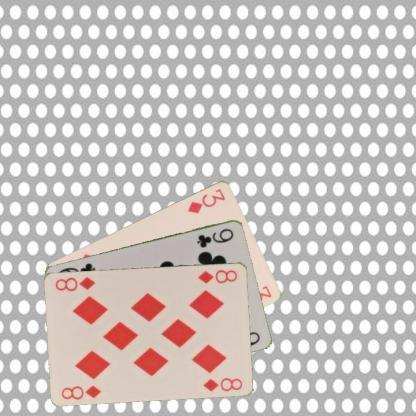3d: (184, 185, 226, 215)
8d: (58, 382, 102, 401), (195, 267, 239, 285)
9c: (194, 226, 235, 248)
